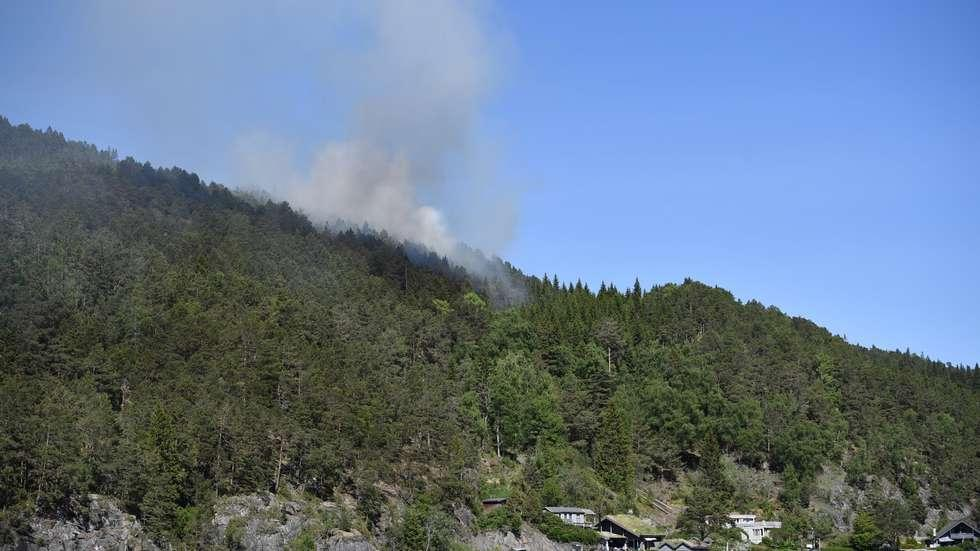smoke: (233, 2, 526, 306)
